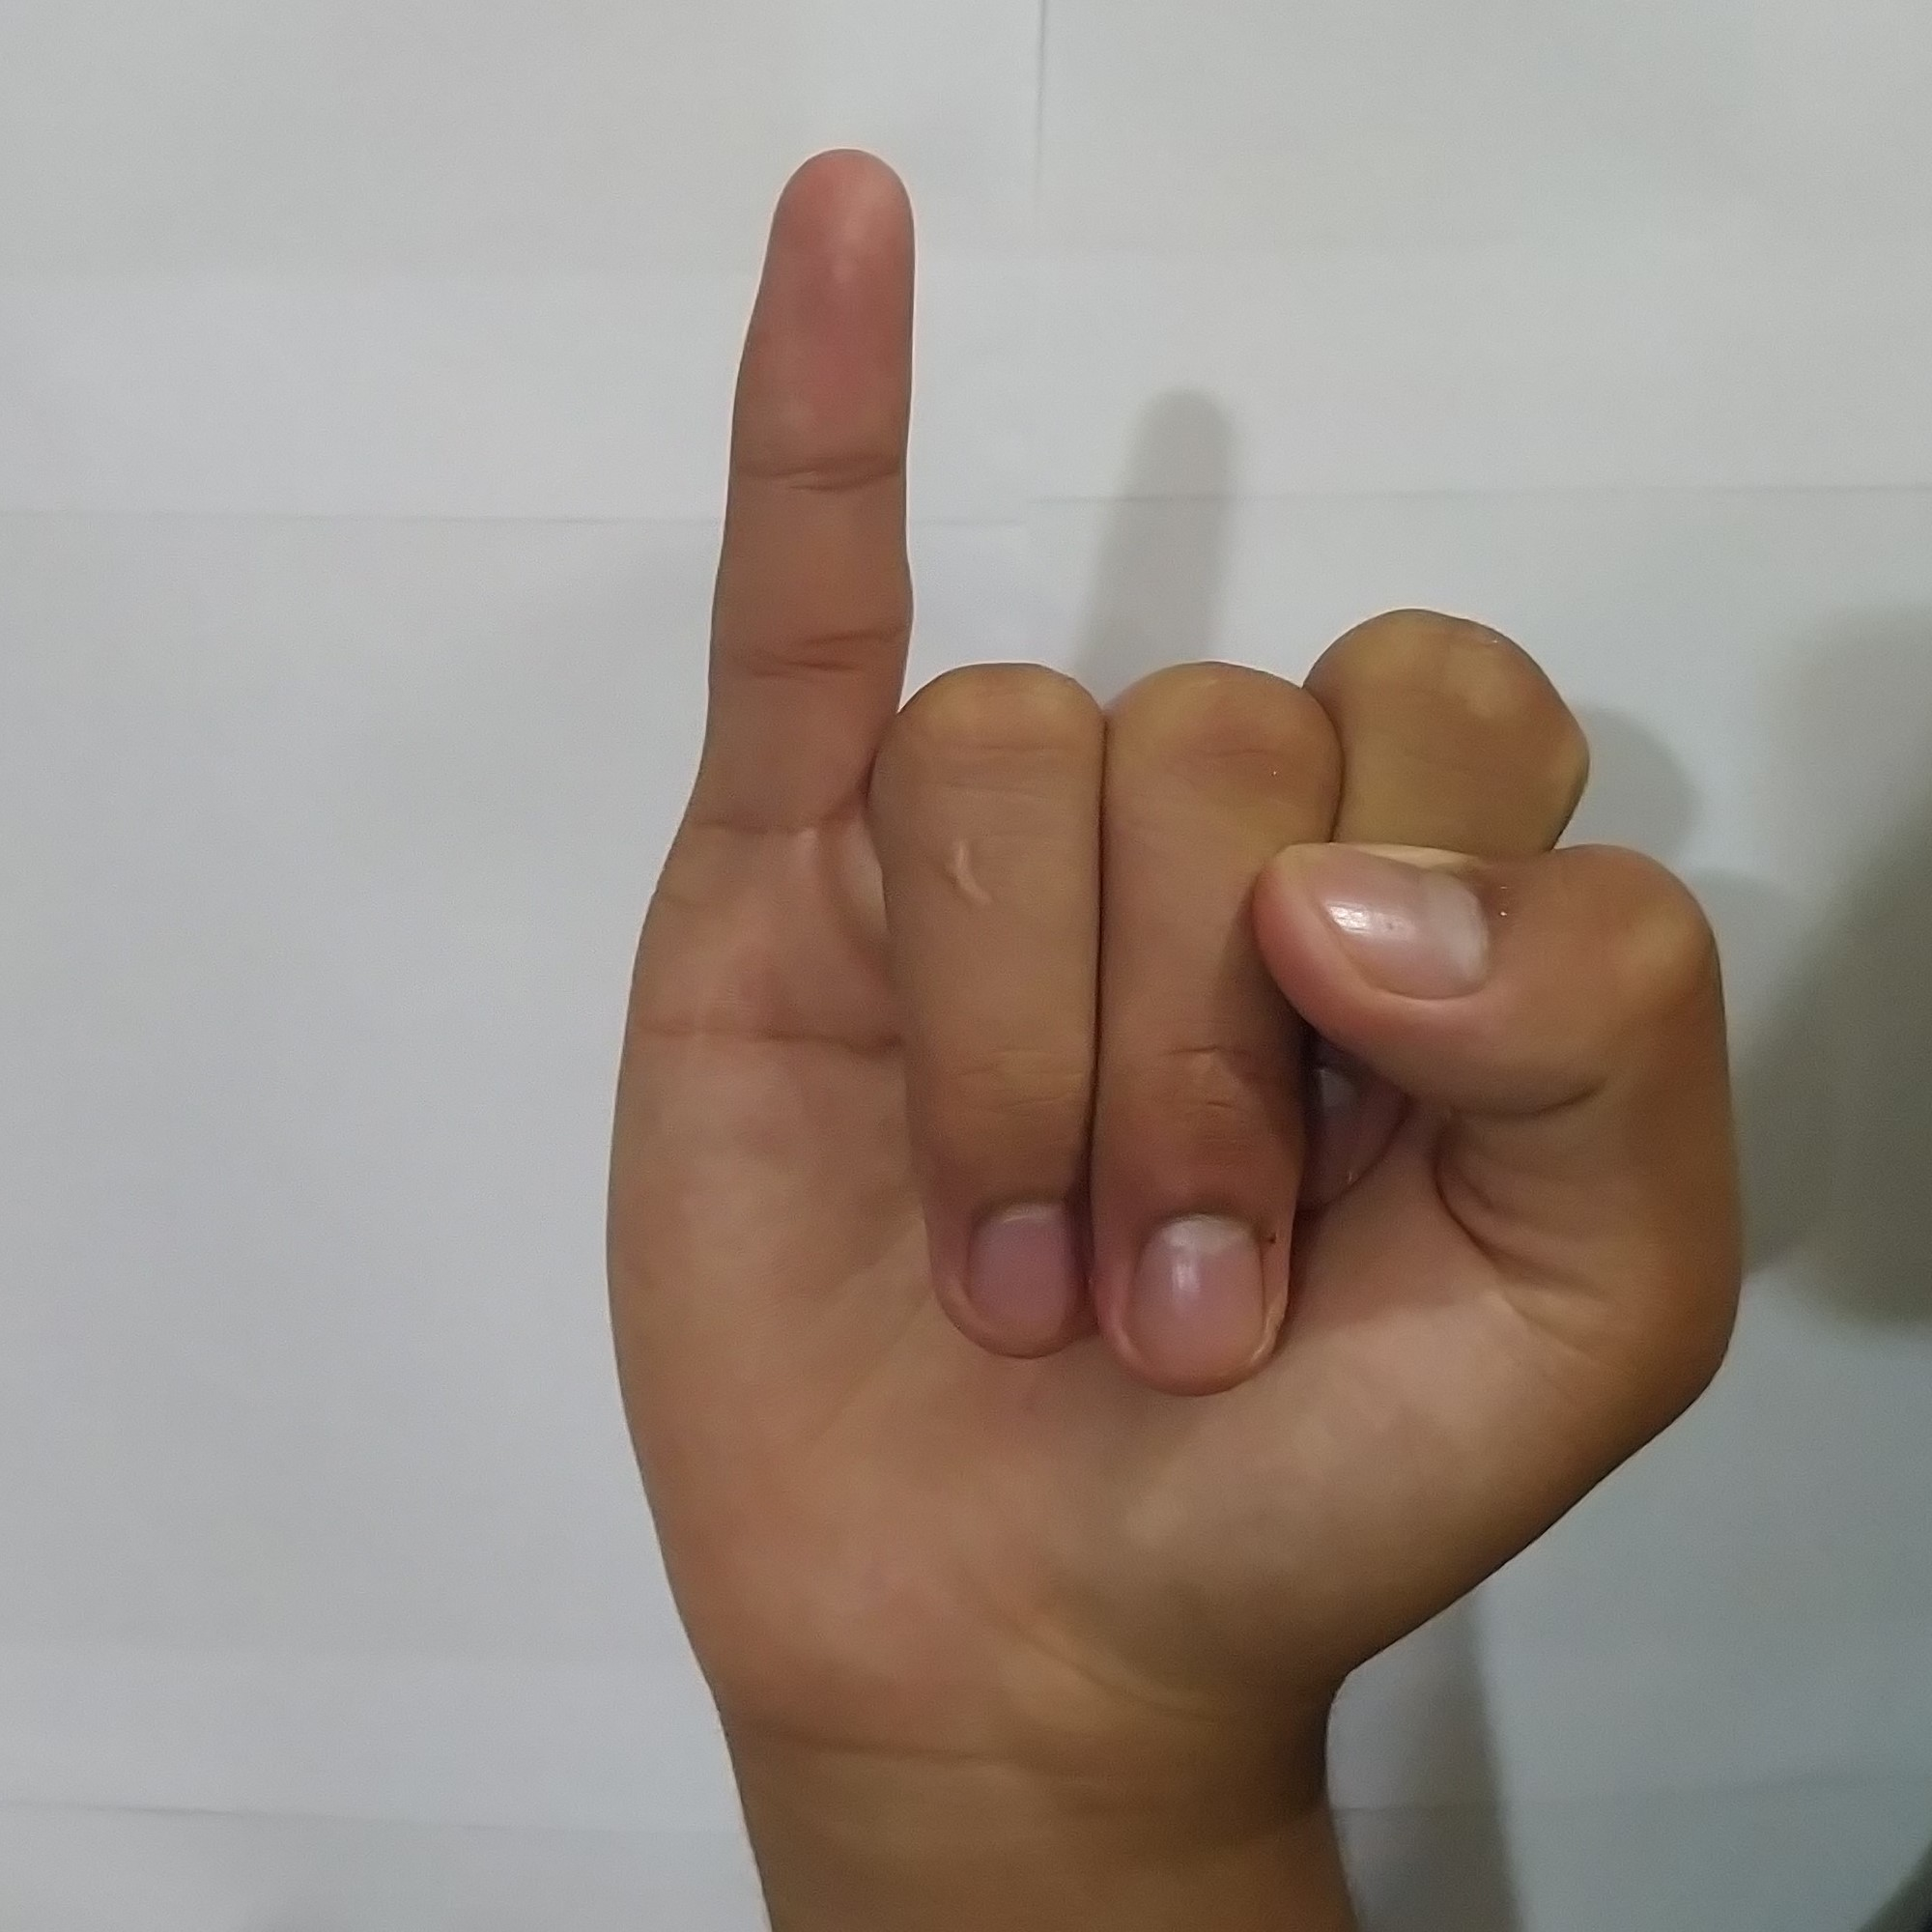I: (573, 124, 1762, 1748)
